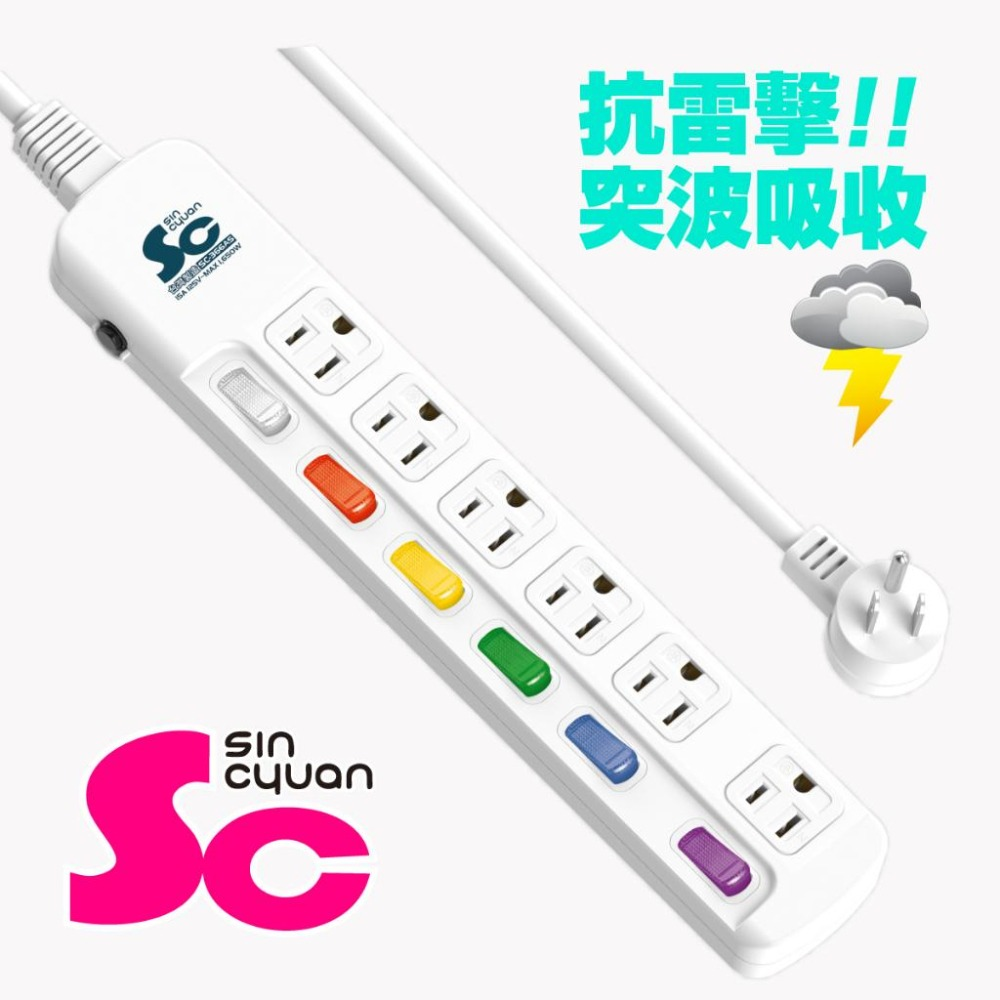socket: (8, 97, 892, 984)
